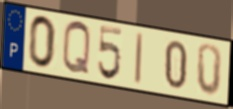0: (26, 15, 60, 71), (196, 43, 223, 99), (163, 39, 190, 91)
5: (96, 23, 123, 82)
I: (133, 31, 145, 88)
Q: (61, 19, 92, 78)
